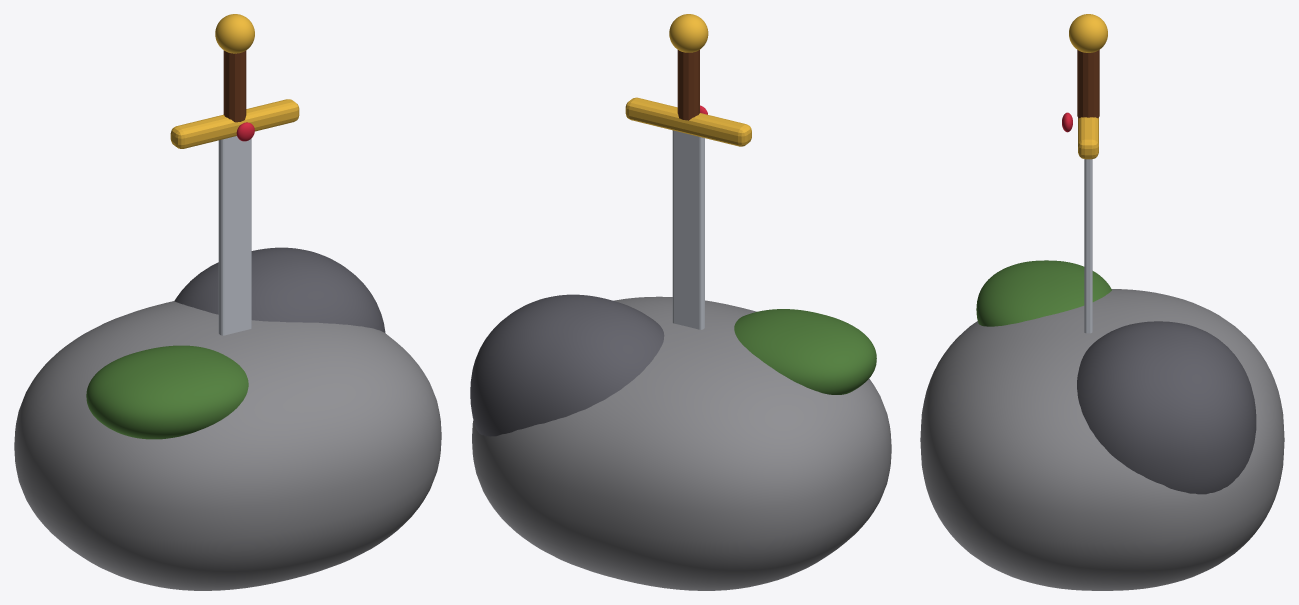
The model's file is espada_piedra.glb.
3 renders of one model, left to right at view 1: azimuth 30°, elevation 25°; view 2: azimuth 150°, elevation 25°; view 3: azimuth 270°, elevation 25°, orthographic.
Parts seen in each view (by area): view 1: roca, musgo, roca2, hoja, guarda, puno, pomo; view 2: roca, roca2, musgo, hoja, guarda, puno, pomo; view 3: roca, roca2, musgo, hoja, puno, pomo, guarda.
Part boxes in pixels (x1=…): roca: x1=14, y1=301, x2=441, y2=590; musgo: x1=86, y1=345, x2=248, y2=439; roca2: x1=174, y1=247, x2=385, y2=332; hoja: x1=218, y1=136, x2=251, y2=335; guarda: x1=170, y1=99, x2=299, y2=148; puno: x1=223, y1=50, x2=246, y2=122; pomo: x1=215, y1=14, x2=254, y2=53; roca: x1=472, y1=296, x2=891, y2=590; roca2: x1=470, y1=294, x2=664, y2=436; musgo: x1=734, y1=309, x2=876, y2=394; hoja: x1=672, y1=130, x2=704, y2=329; guarda: x1=625, y1=97, x2=751, y2=146; puno: x1=677, y1=50, x2=699, y2=120; pomo: x1=669, y1=14, x2=708, y2=52; roca: x1=920, y1=289, x2=1284, y2=590; roca2: x1=1077, y1=321, x2=1256, y2=494; musgo: x1=976, y1=260, x2=1111, y2=326; hoja: x1=1084, y1=159, x2=1092, y2=333; puno: x1=1077, y1=50, x2=1099, y2=118; pomo: x1=1069, y1=14, x2=1107, y2=52; guarda: x1=1078, y1=117, x2=1098, y2=159.
Size of the model in its own units: 0.6 by 0.848 by 0.52.
